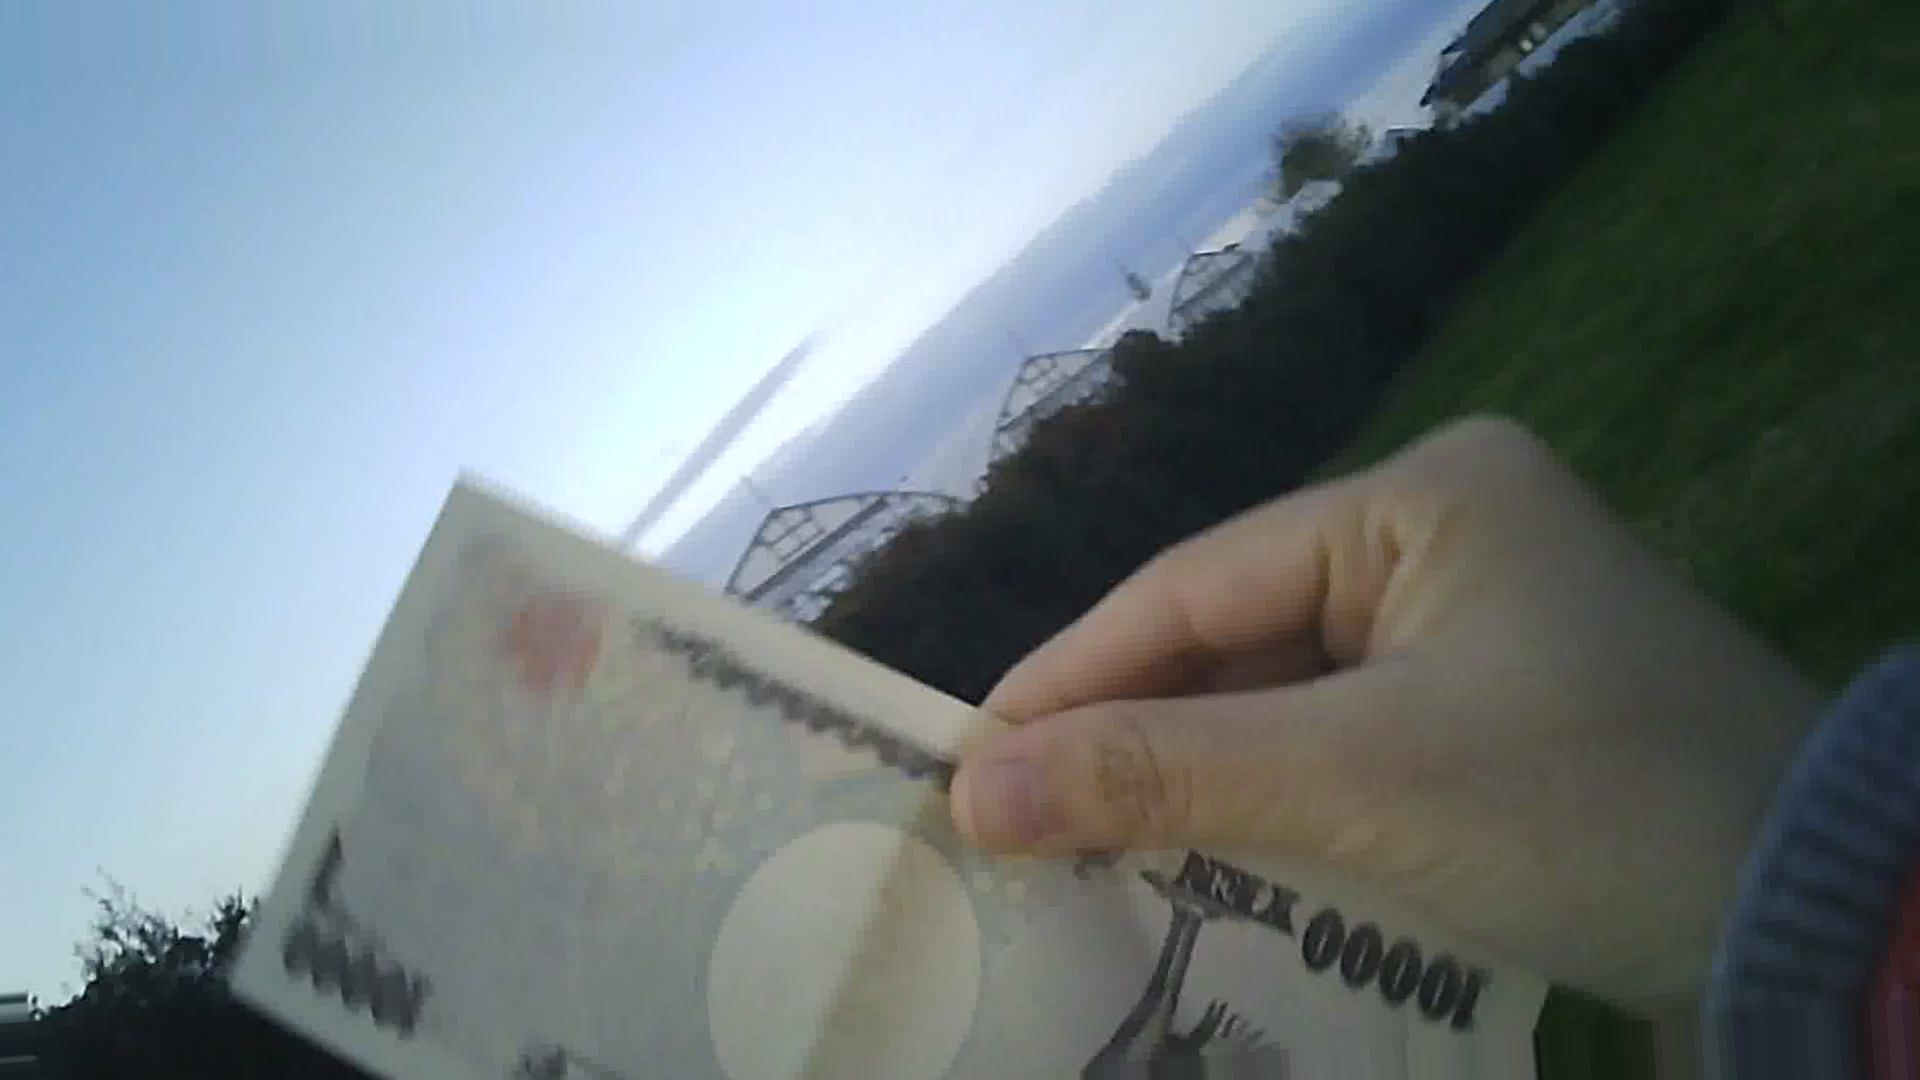10,000 Yen: (206, 454, 1490, 1079)
